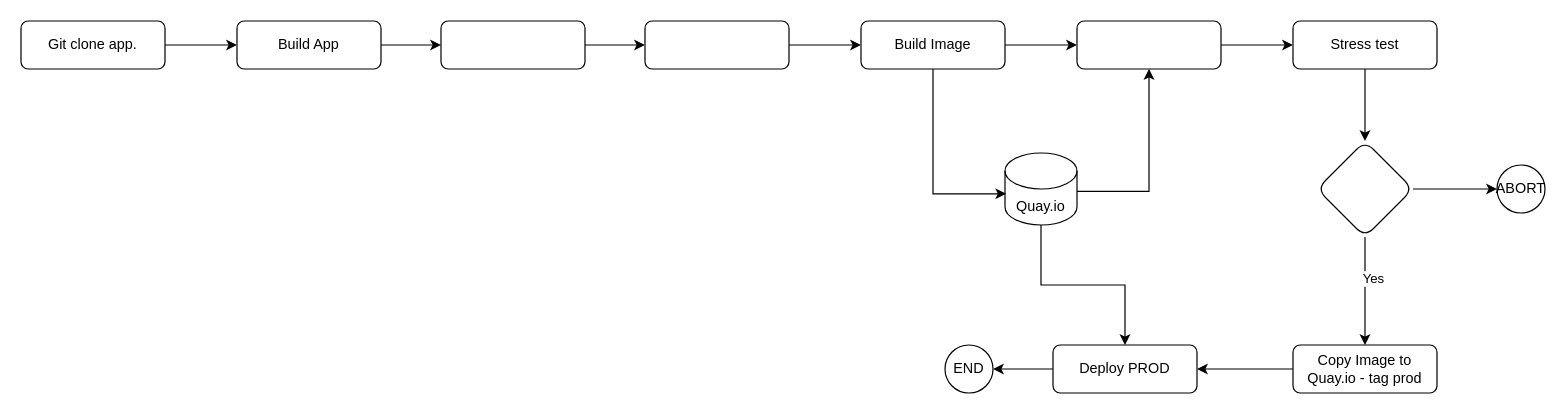
The diagram is 1566 pixels wide and 414 high, and some of its shapes have lost their labels. Here are the shapes that lost their labels. From the top down, the centre of each, then its label:
At point 512,44: "Unit Testing".
At point 716,44: "Integ. Testing".
At point 1148,44: "Deploy DEV".
At point 1364,188: "Deploy to PROD ?".
